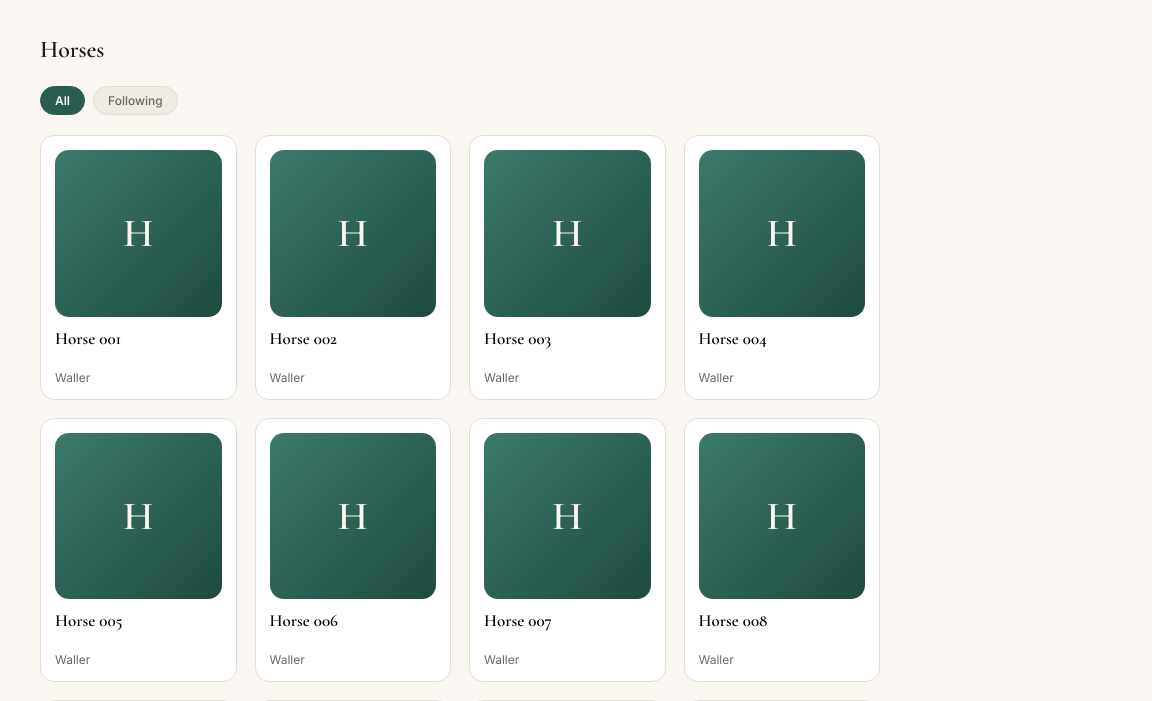
Test: ENG-960 browse paging — the cap bounds the read, the pager keeps every row reachable › the empty-follows short-circuit offers no pager (it returns before the roster query)
The image size is (1152, 701).
Expected: the text "Horse 001" is shown, [55,328,121,348]
Click the button with test id "browse-filter-following": [135, 100] box [93,86,178,115]
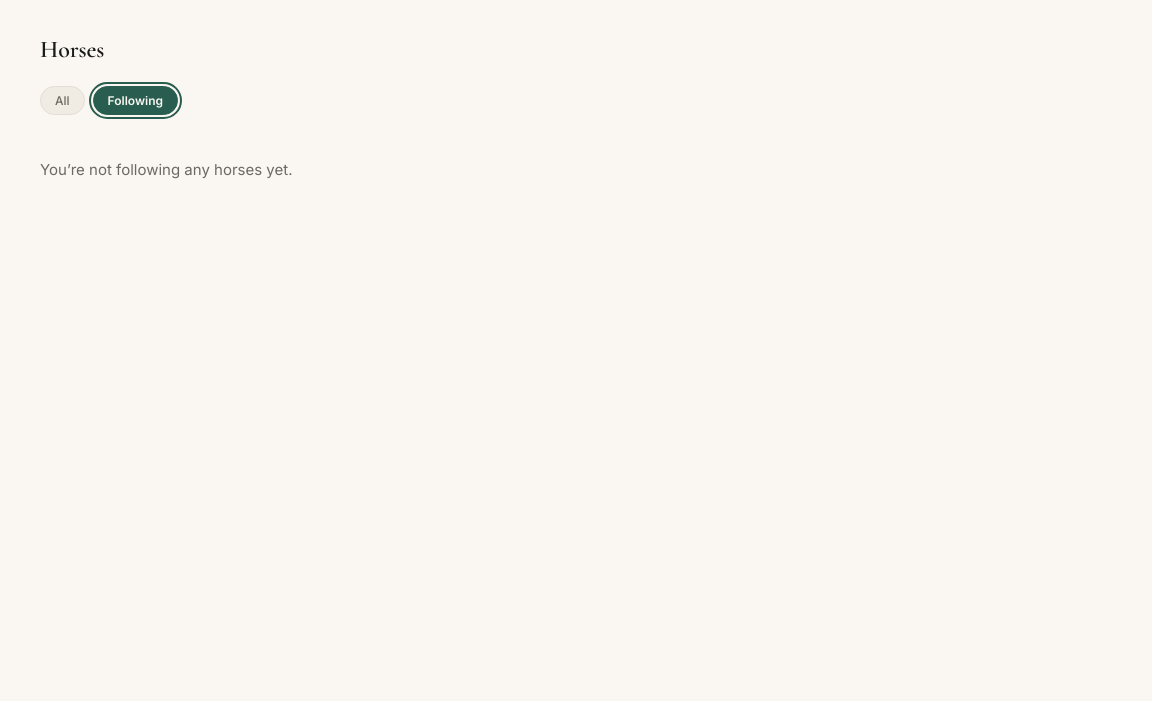
Expected: the text "You’re not following any horses yet." is shown, [40,160,292,179]
